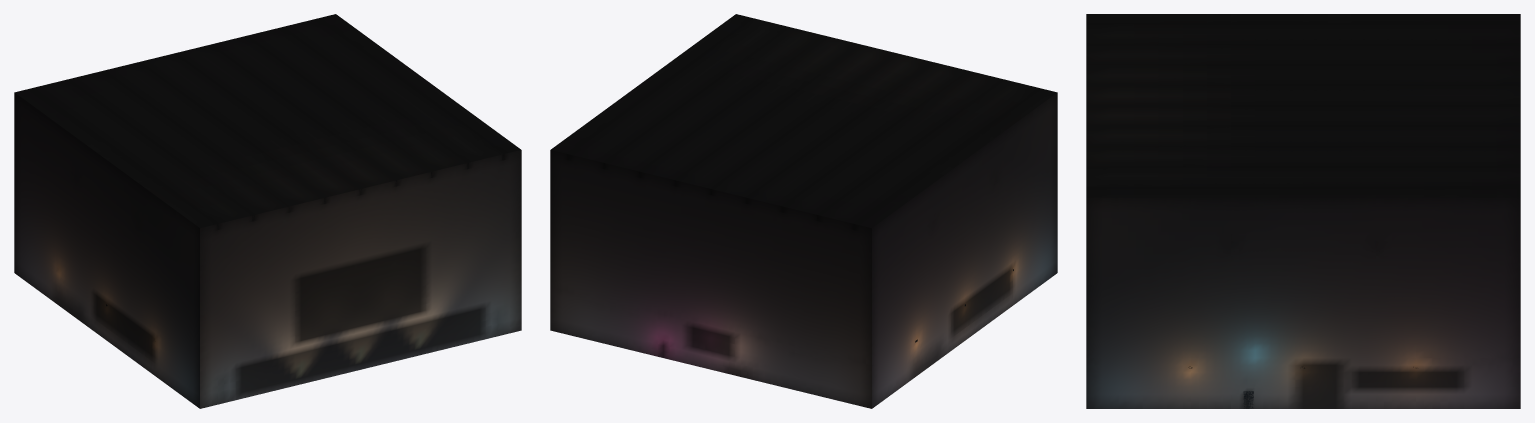
The model's file is SlopballNightCourt.fbx.
The picture shows the model from 3 angles, left to right: view 1: azimuth 30°, elevation 25°; view 2: azimuth 150°, elevation 25°; view 3: azimuth 270°, elevation 25°; orthographic projection. The views are drawn at different scales.
Parts seen in each view (by area): view 1: Hall; view 2: Hall; view 3: Hall.
Boxes of the visible parts, x1,y1,x2,y2 form: Hall: (14,14,521,408); Hall: (550,14,1057,408); Hall: (1086,14,1520,408).
Bounding box in the file's own units: 54.08 × 29.19 × 54.
